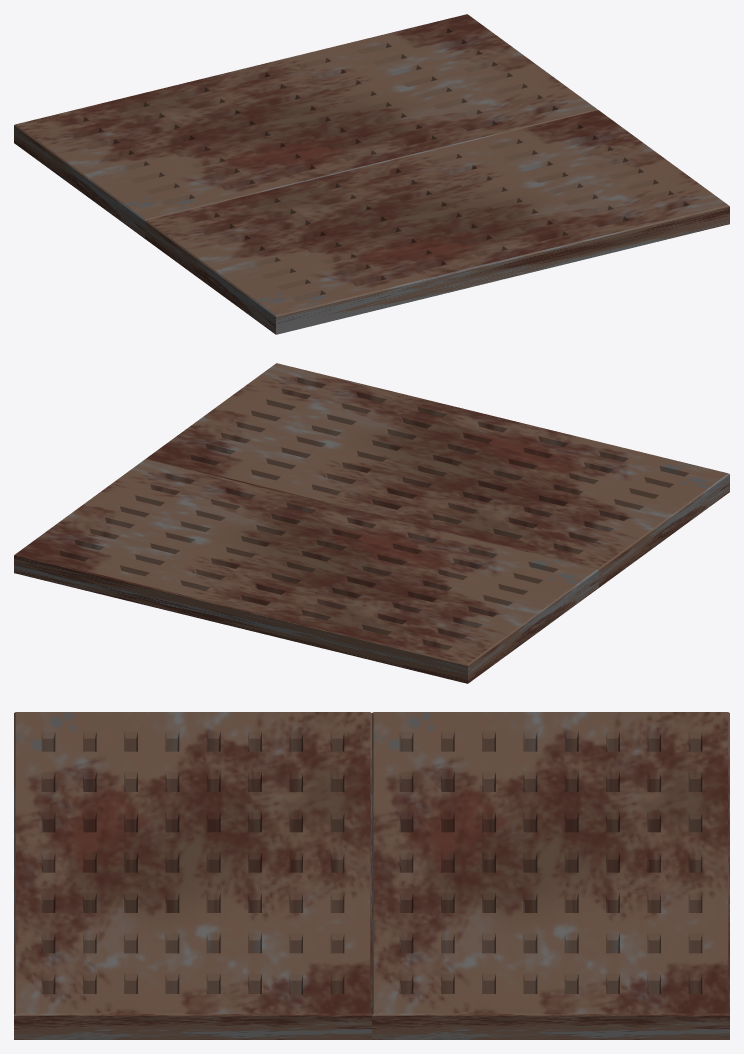
Rendered from Sinkholes2.0.fbx.
3 views of the same model, one above another, from view 1: azimuth 30°, elevation 25°; view 2: azimuth 150°, elevation 25°; view 3: azimuth 270°, elevation 25° (orthographic). The views are drawn at different scales.
Parts seen in each view (by area): view 1: Sinkholes.complete; view 2: Sinkholes.complete; view 3: Sinkholes.complete.
Part boxes in pixels (<box>): Sinkholes.complete: <box>14,14,729,334</box>; Sinkholes.complete: <box>14,363,729,683</box>; Sinkholes.complete: <box>14,712,729,1039</box>.
Bounding box in the file's own units: 200 × 7.97 × 200.
1 material, 1 textured.
